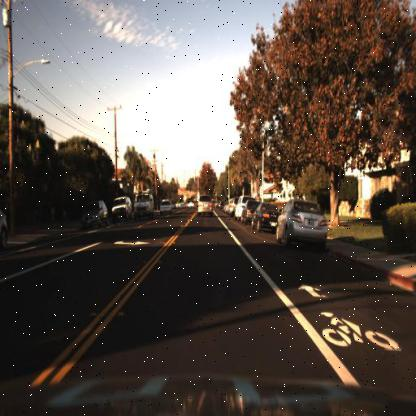car: (276, 197, 330, 256), (76, 198, 110, 232), (77, 200, 109, 235), (249, 197, 276, 237), (251, 200, 280, 231), (110, 193, 132, 229), (132, 188, 155, 222), (194, 188, 213, 219), (158, 196, 172, 217), (240, 198, 250, 224), (234, 198, 243, 220)
